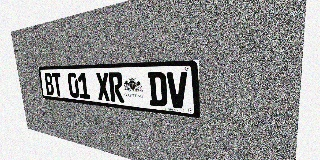0: (67, 73, 80, 98)
1: (77, 73, 90, 99)
B: (44, 73, 55, 96)
D: (148, 72, 167, 107)
R: (108, 72, 124, 103)
T: (52, 73, 63, 96)
V: (166, 72, 188, 109)
X: (95, 72, 111, 101)
